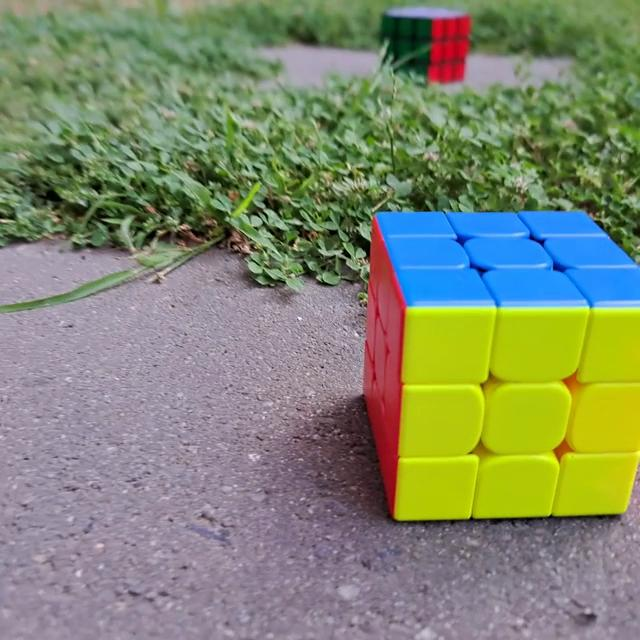rubix_cube: (352, 204, 640, 529), (378, 2, 472, 89)
